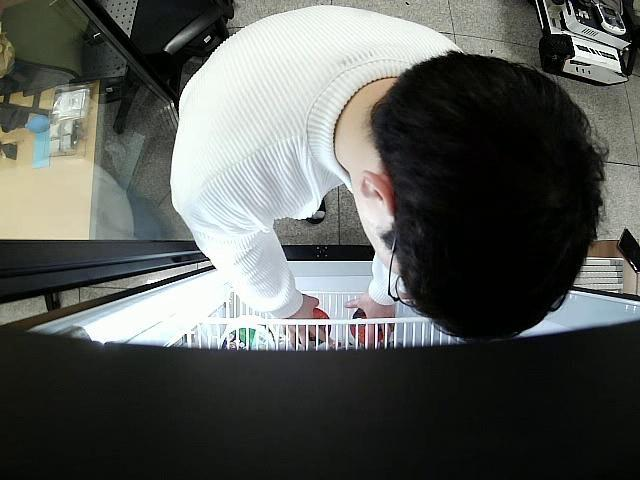02_shinRamen_S: (348, 308, 391, 344), (293, 308, 332, 346)
